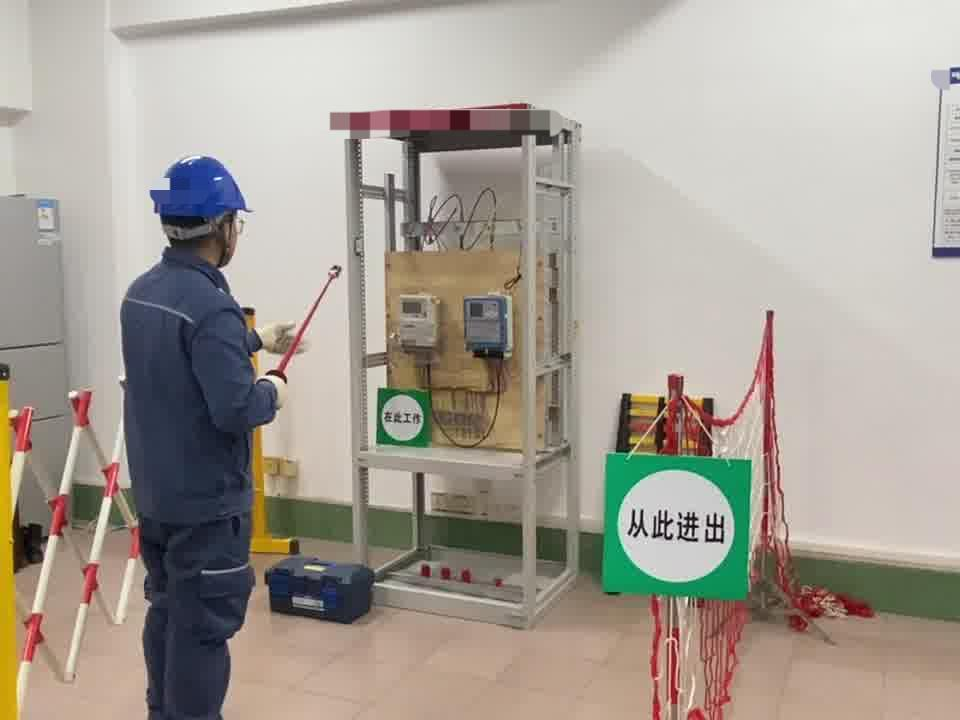halt: (155, 156, 254, 265)
inear: (209, 214, 238, 258)
